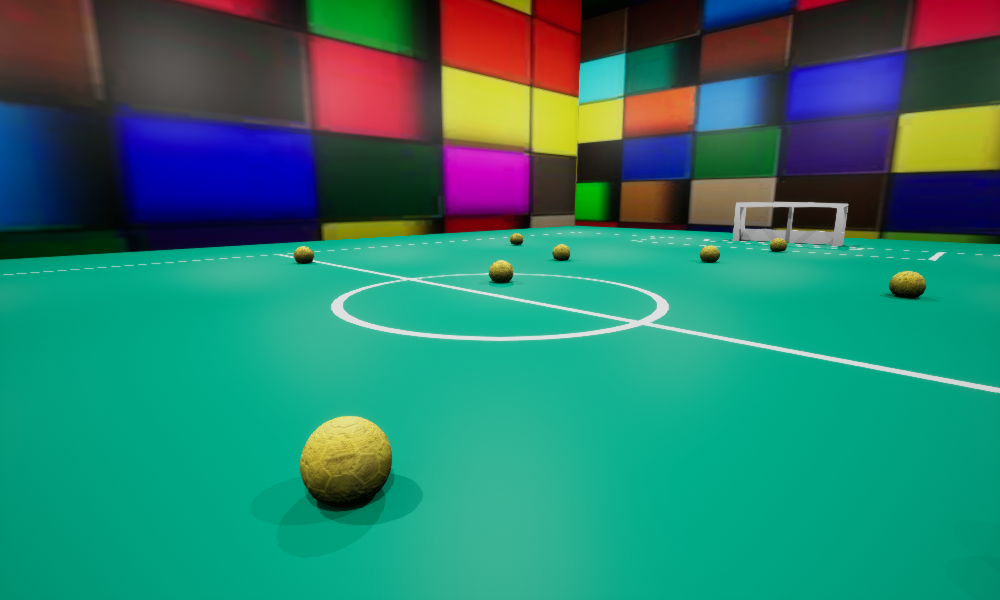b: (300, 416, 391, 507), (889, 271, 925, 296), (489, 260, 512, 282), (294, 246, 313, 263), (700, 245, 719, 262), (552, 244, 569, 260), (770, 238, 786, 250), (510, 233, 522, 244)
g: (732, 202, 848, 245)
